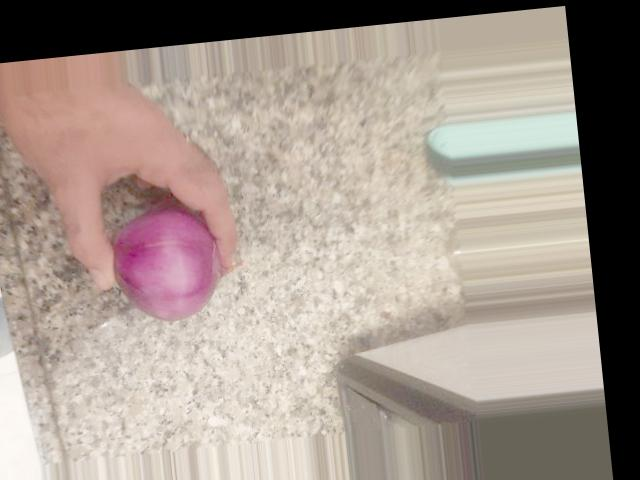onion: (95, 211, 234, 325)
